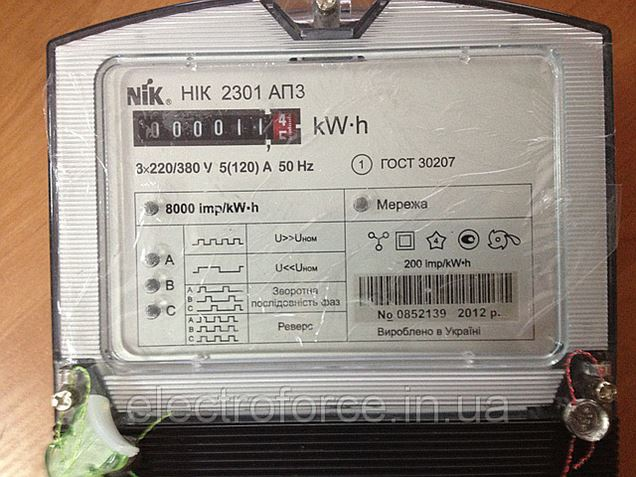counter: (35, 0, 631, 477)
counter_screen: (126, 106, 302, 153)
